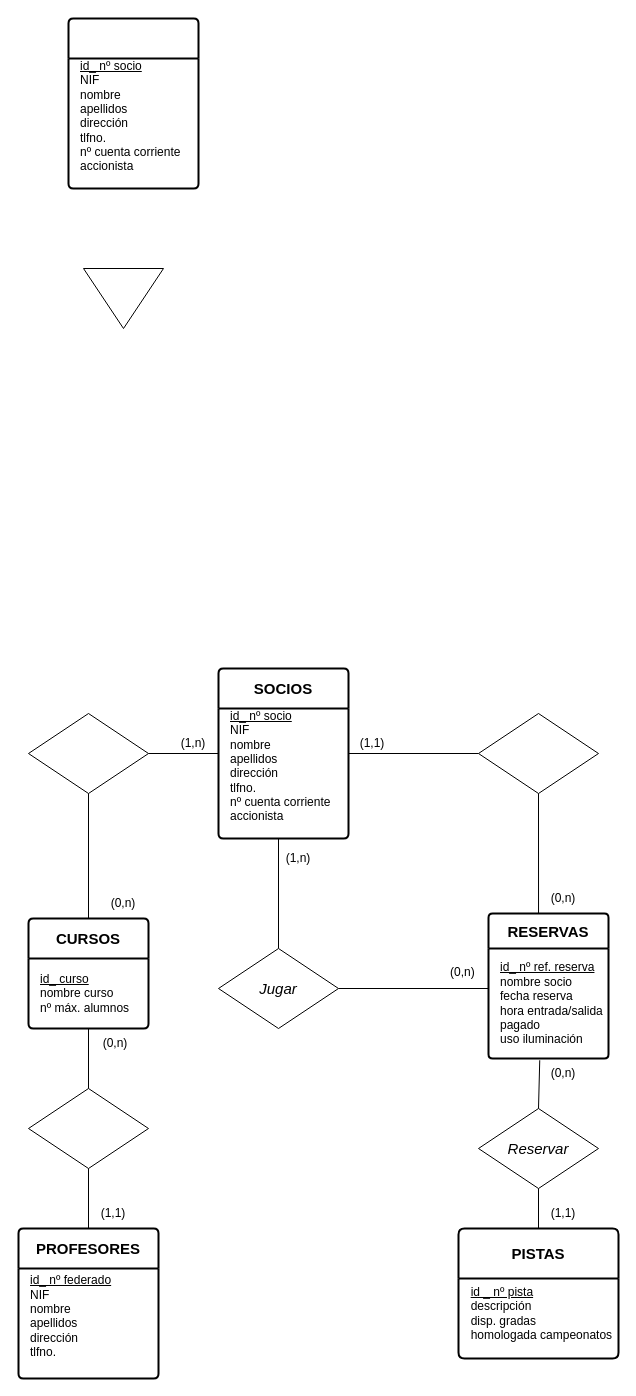
Some shapes in this 636 by 1396 pixel diagram are drawn without their labels. Here are the shapes that lost their labels. From the top down, the box of each, then its label:
(67, 17, 199, 189): PERSONAS
(28, 712, 148, 794): Realizar
(478, 712, 598, 794): Hacer
(28, 1088, 148, 1168): Impartir
